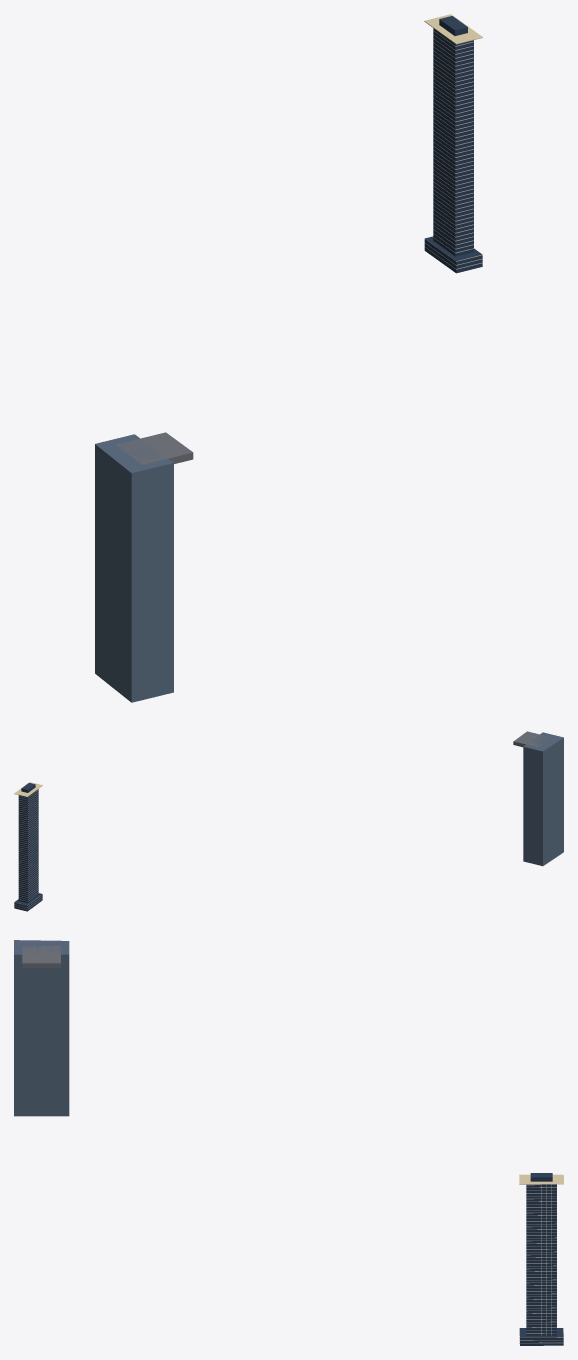
File: grande-signature-residences.glb
The picture shows the model from 3 angles, top to bottom: view 1: azimuth 30°, elevation 25°; view 2: azimuth 150°, elevation 25°; view 3: azimuth 270°, elevation 25°; orthographic projection. The views are drawn at different scales.
Parts seen in each view (by area): view 1: vision_slab_-1, B_1047612077_grande-signature-residences, vision_crown; view 2: vision_slab_-1, B_1047612077_grande-signature-residences, vision_crown; view 3: vision_slab_-1, B_1047612077_grande-signature-residences, vision_crown.
Part boxes in pixels (box(x1,y1,x2,y2)): vision_slab_-1: box(95, 434, 173, 702); B_1047612077_grande-signature-residences: box(424, 16, 482, 273); vision_crown: box(116, 432, 193, 464); vision_slab_-1: box(523, 732, 563, 866); B_1047612077_grande-signature-residences: box(14, 783, 42, 911); vision_crown: box(513, 731, 552, 747); vision_slab_-1: box(14, 940, 69, 1116); B_1047612077_grande-signature-residences: box(519, 1173, 563, 1345); vision_crown: box(22, 946, 60, 968).
Bounding box in the file's own units: 842 × 267 × 801.
